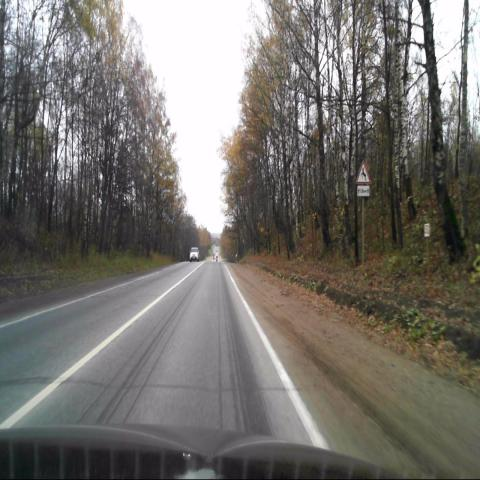1_27: (356, 160, 370, 185)
